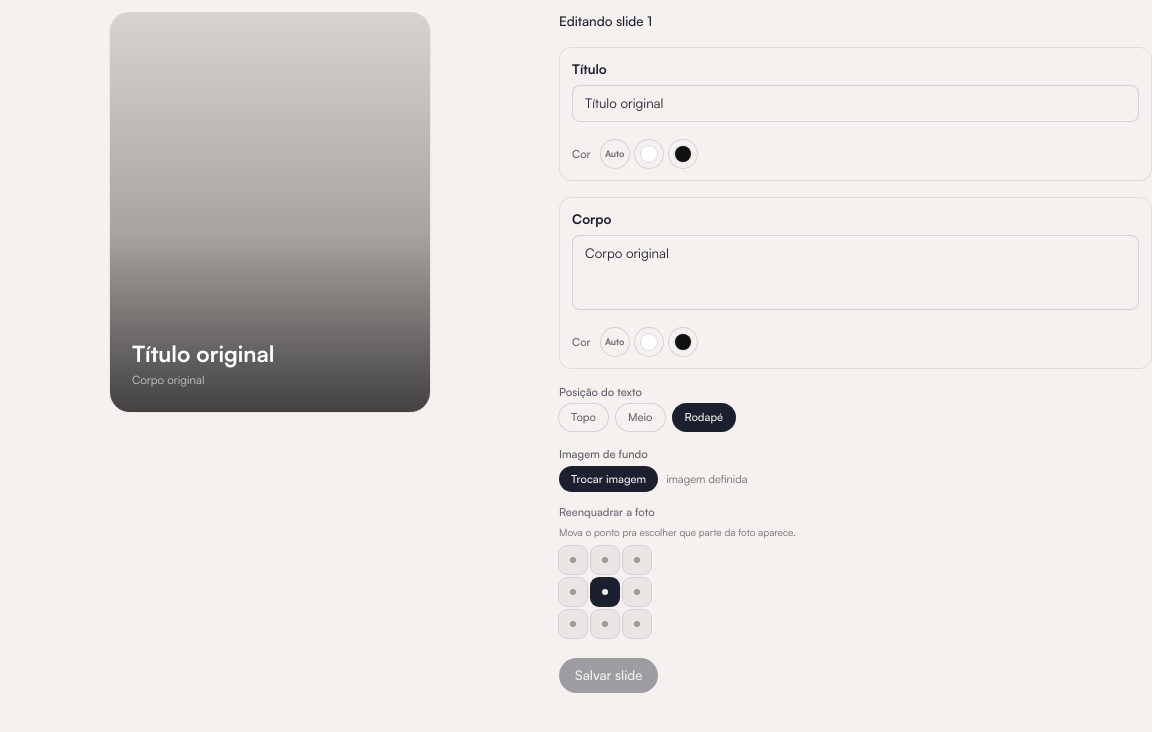
Test: SlideEditor — round-trip de edição › Descartar reverte as edições ao estado inicial
The image size is (1152, 732).
Replace the text in the text box showing "Título original" with "mudou" at [856, 104], box left=572, top=85, right=1139, bottom=122
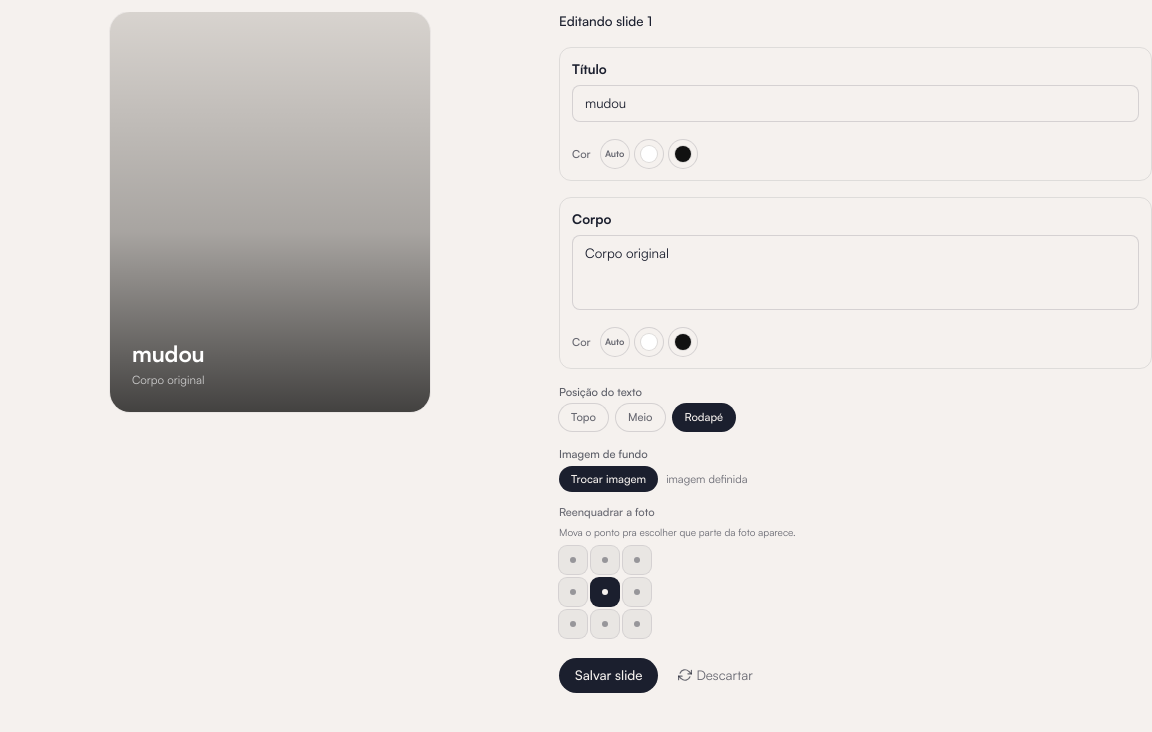
Now the button "Descartar" is shown
Click the button "Descartar" at [716, 675], box left=666, top=658, right=765, bottom=693
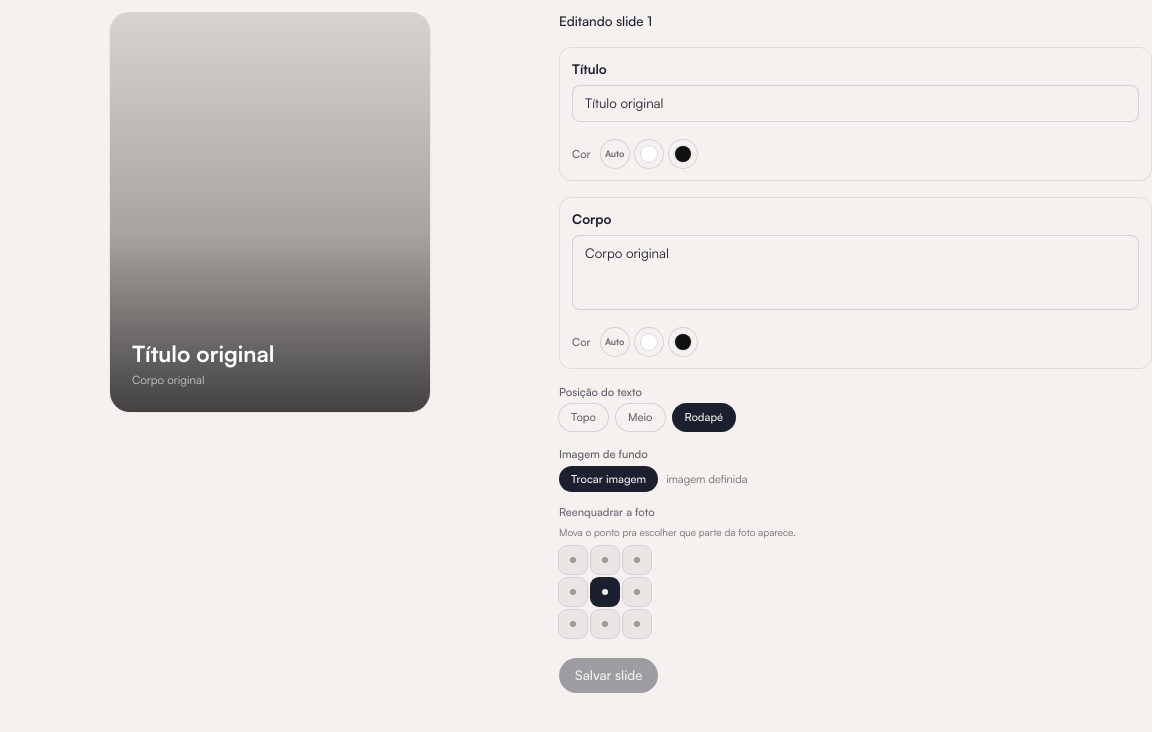
Now the text box showing "Título original" is shown, box left=572, top=85, right=1139, bottom=122
